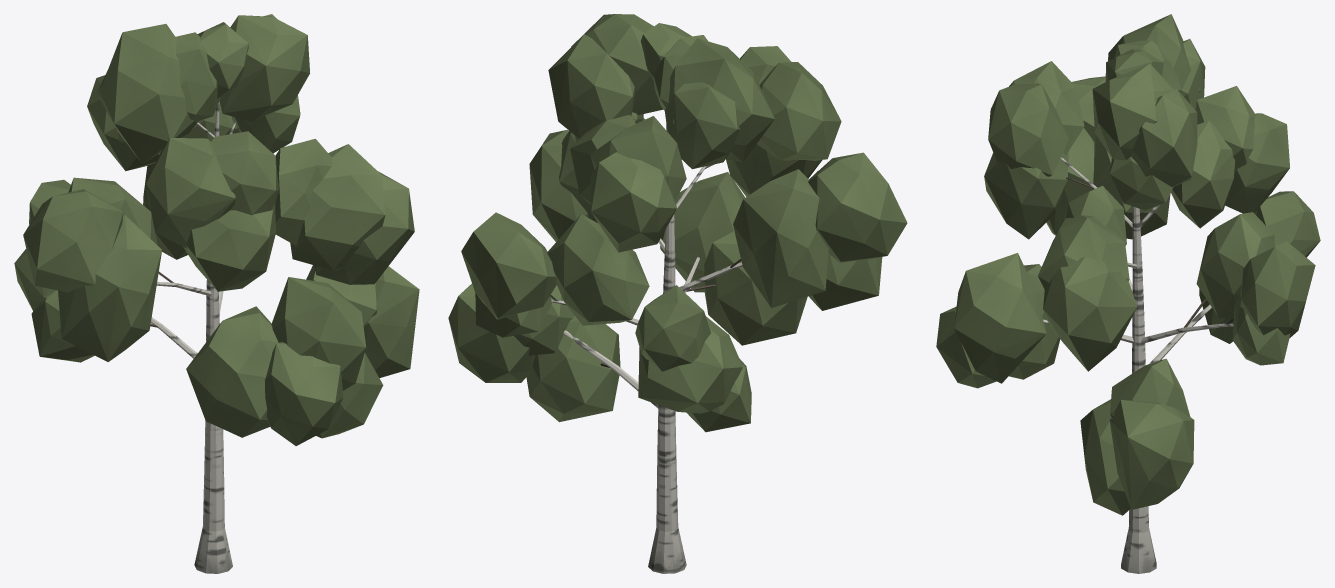
File: forest_birch_tree_B.glb
3 views of the same model, side by side, from view 1: azimuth 30°, elevation 25°; view 2: azimuth 150°, elevation 25°; view 3: azimuth 270°, elevation 25° (orthographic). The views are drawn at different scales.
Parts seen in each view (by area): view 1: Foliage, Bark; view 2: Foliage, Bark; view 3: Foliage, Bark.
Part boxes in pixels (bbox=[...]): Foliage: bbox=[14, 14, 419, 445]; Bark: bbox=[150, 101, 239, 573]; Foliage: bbox=[448, 14, 907, 432]; Bark: bbox=[550, 124, 742, 573]; Foliage: bbox=[936, 14, 1320, 515]; Bark: bbox=[1043, 157, 1233, 573].
Size of what is drawn, in the model's own units: 7.85 by 9.92 by 6.61.
Materials: 1 (1 with a texture image).
